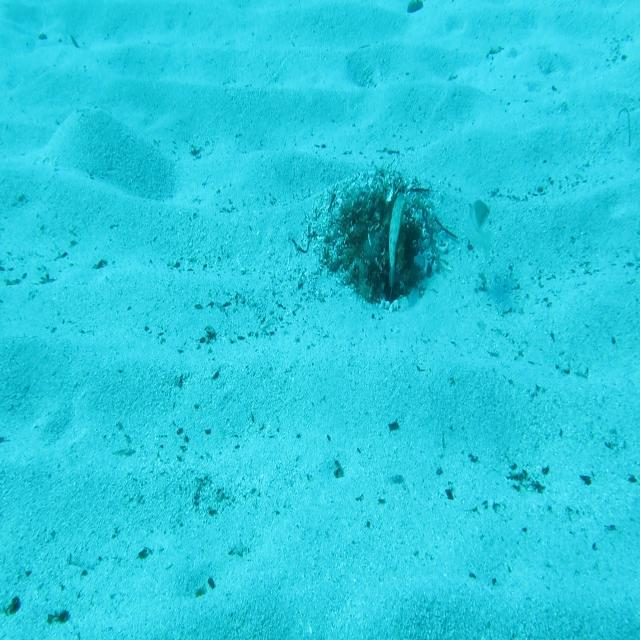ROLL: (385, 176, 409, 297)
female: (460, 196, 502, 255)
nest: (321, 177, 443, 314)
